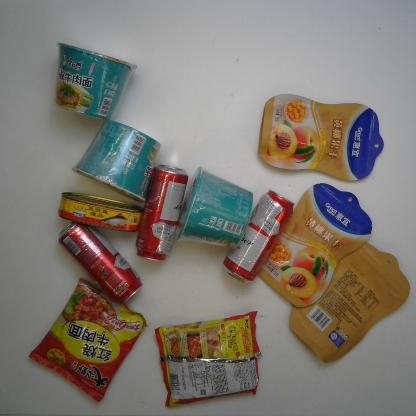Alcohol: (56, 221, 145, 305), (221, 187, 296, 285), (134, 162, 190, 263)
Canned Food: (56, 191, 144, 233)
Dried Fruit: (288, 242, 412, 364), (257, 181, 374, 308), (257, 92, 385, 182)
Instant Noodles: (26, 276, 150, 404), (154, 310, 262, 409), (69, 118, 164, 204), (51, 40, 140, 122), (173, 165, 254, 250)
